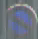No waiting: (2, 2, 36, 38)
